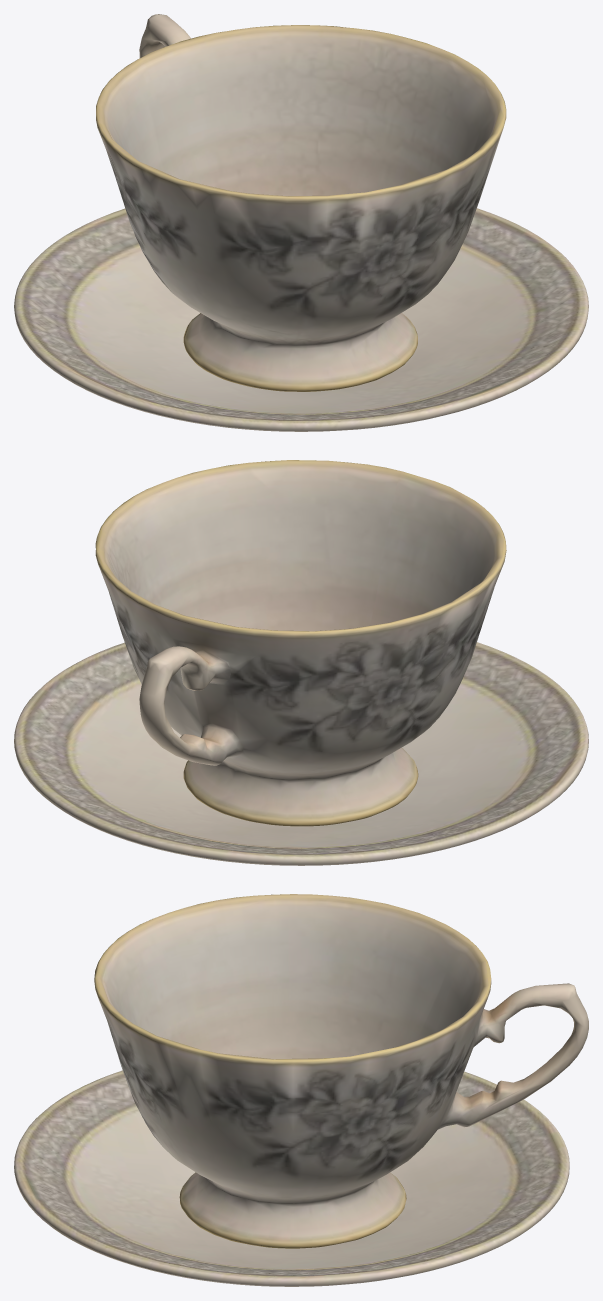
The model's file is teacup.glb.
The picture shows the model from 3 angles, top to bottom: view 1: azimuth 30°, elevation 25°; view 2: azimuth 150°, elevation 25°; view 3: azimuth 270°, elevation 25°; orthographic projection. The views are drawn at different scales.
Visible parts, largest first — view 1: tea_cup, tea_saucer; view 2: tea_cup, tea_saucer; view 3: tea_cup, tea_saucer.
Part boxes in pixels (x1,y1,x2,y2): tea_cup: (96,14,506,391); tea_saucer: (14,208,588,431); tea_cup: (95,460,506,826); tea_saucer: (14,642,588,865); tea_cup: (94,894,588,1248); tea_saucer: (14,1070,569,1286).
Bounding box in the file's own units: 0.1486 × 0.0704 × 0.1537.
Materials: 2 (2 with a texture image).
